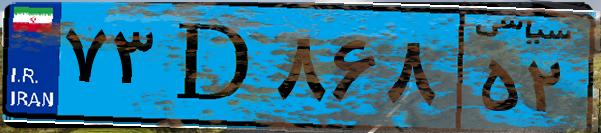2: (525, 38, 570, 115)
3: (110, 28, 158, 98)
5: (475, 38, 525, 113)
6: (330, 28, 385, 110)
7: (57, 26, 110, 100)
8: (270, 28, 330, 110), (385, 28, 445, 110)
D: (158, 12, 270, 120)
